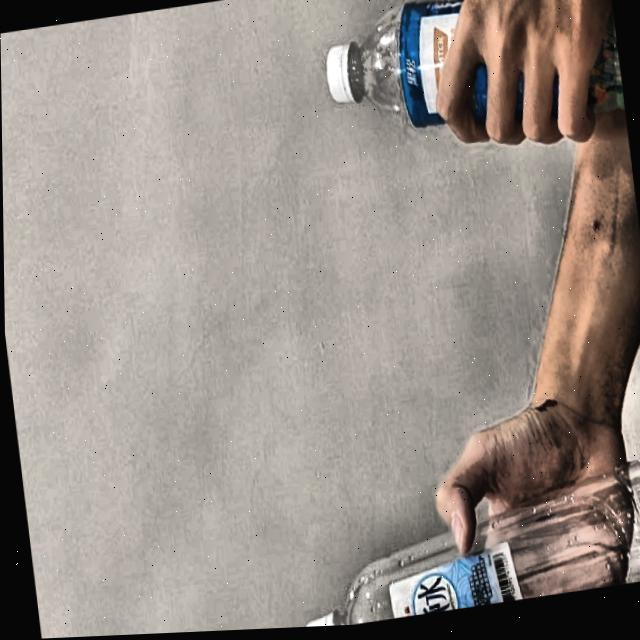plastic: (276, 446, 640, 631), (310, 0, 625, 168)
